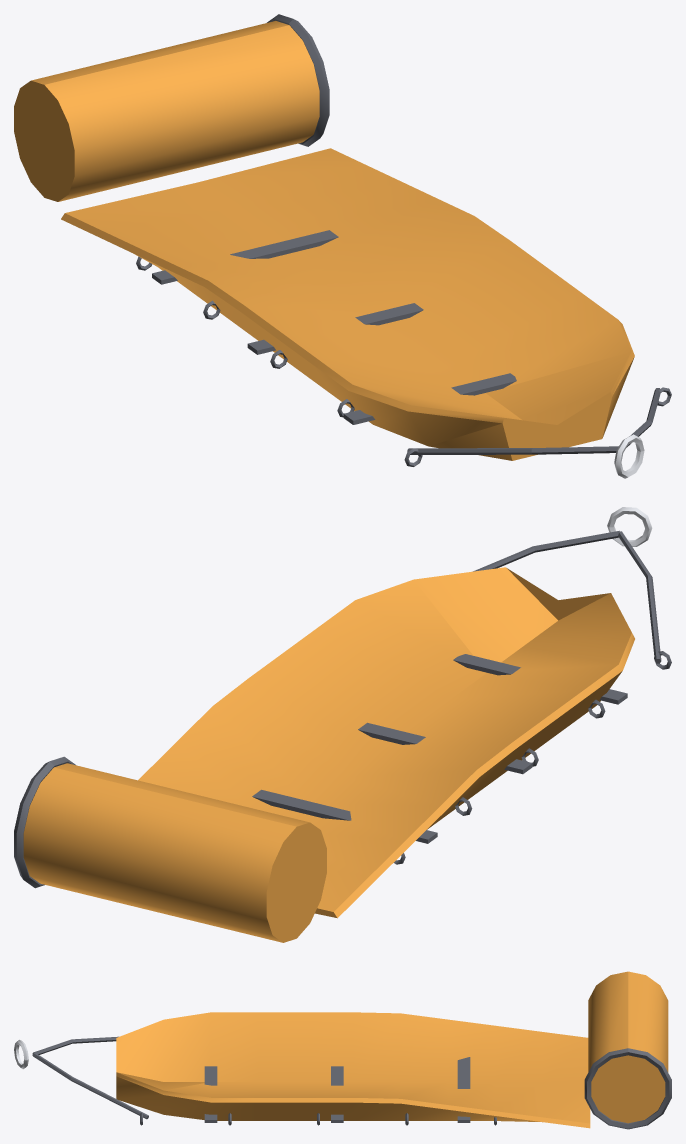
File: backcountry-snowboarding-and-avalanche-safety-rescue-s-0c6d551b__18940.glb
The picture shows the model from 3 angles, top to bottom: view 1: azimuth 30°, elevation 25°; view 2: azimuth 150°, elevation 25°; view 3: azimuth 270°, elevation 25°; orthographic projection. The views are drawn at different scales.
Parts seen in each view (by area): view 1: rescue-sked; view 2: rescue-sked; view 3: rescue-sked.
Boxes of the visible parts, box(x1,y1,x2,y2) form: rescue-sked: box(14, 14, 671, 478); rescue-sked: box(14, 507, 671, 942); rescue-sked: box(14, 971, 671, 1129).
Bounding box in the file's own units: 0.66 × 0.2839 × 2.08.
